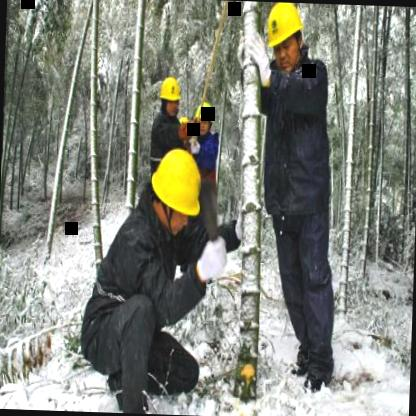helmet: (146, 145, 204, 239), (262, 2, 308, 75), (156, 72, 182, 115), (193, 99, 214, 136)
